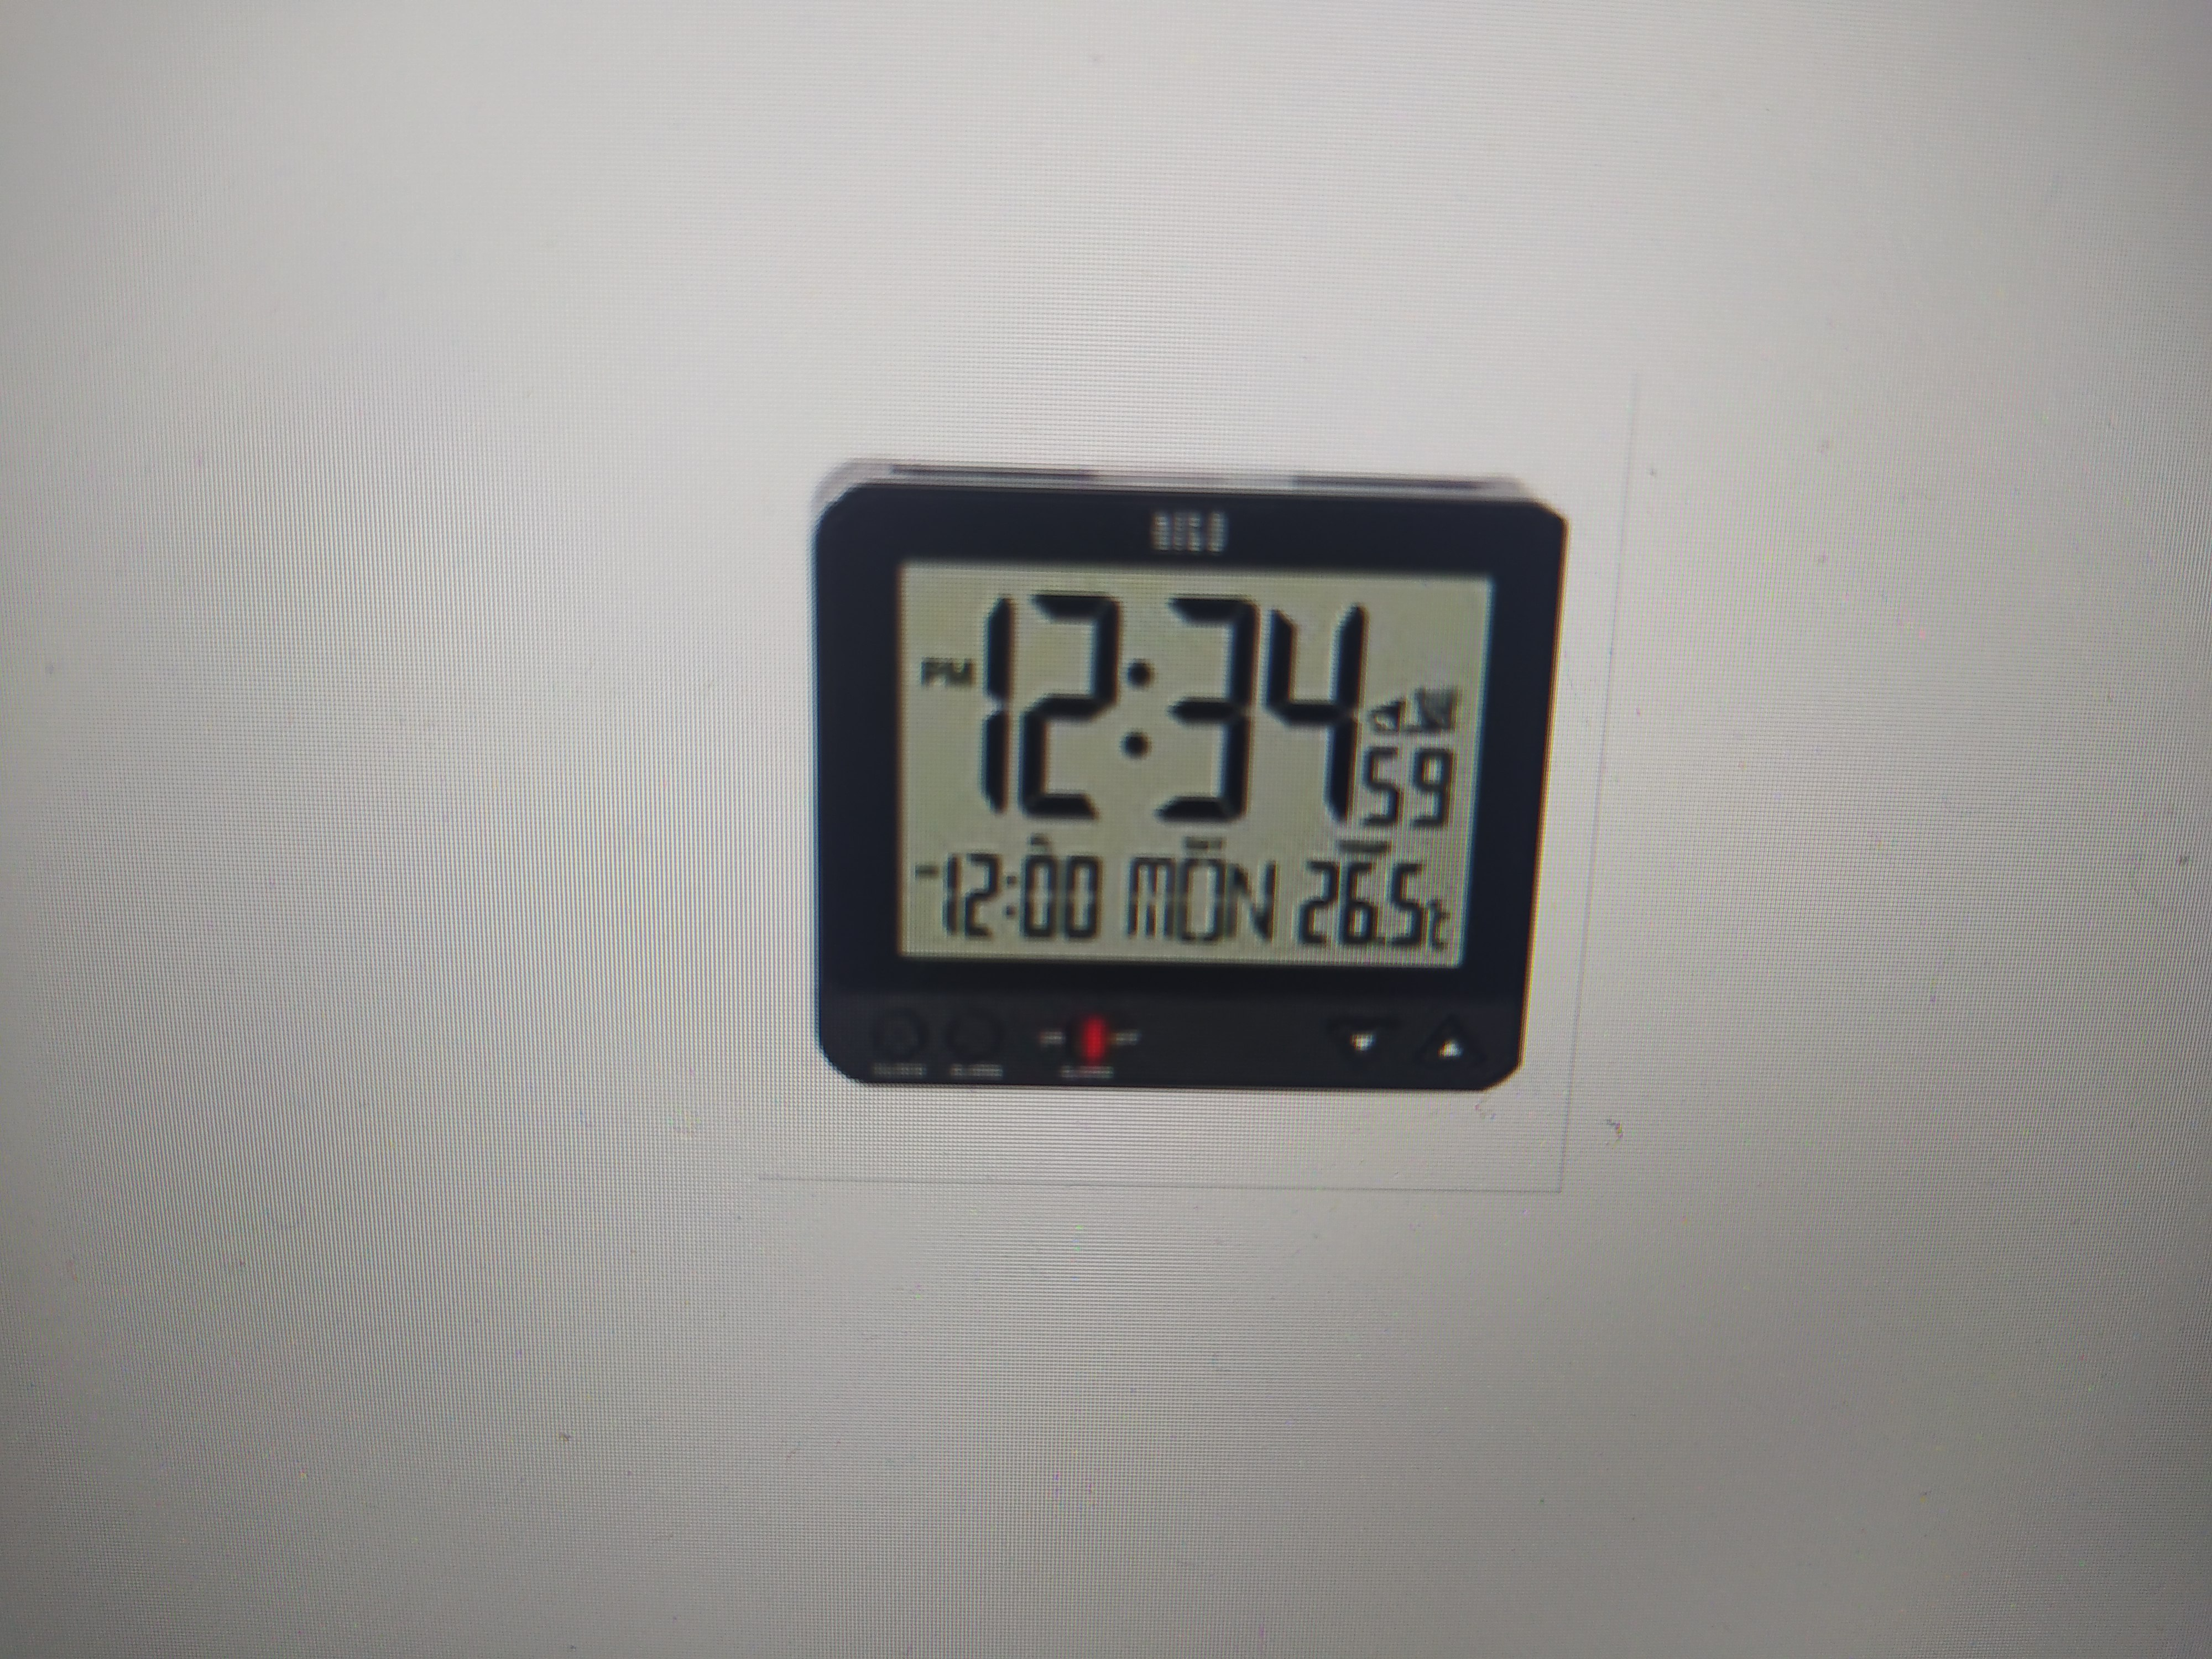.: (1374, 859, 1390, 948)
0: (1062, 856, 1101, 943), (1022, 854, 1059, 939)
1: (981, 591, 1017, 817), (941, 850, 960, 938)
2: (1019, 589, 1122, 823), (961, 852, 1001, 938), (1296, 857, 1334, 946)
3: (1162, 592, 1259, 824)
4: (1266, 605, 1371, 824)
5: (1386, 861, 1426, 950), (1364, 746, 1402, 828)
6: (1338, 859, 1379, 950)
9: (1411, 746, 1453, 830)
